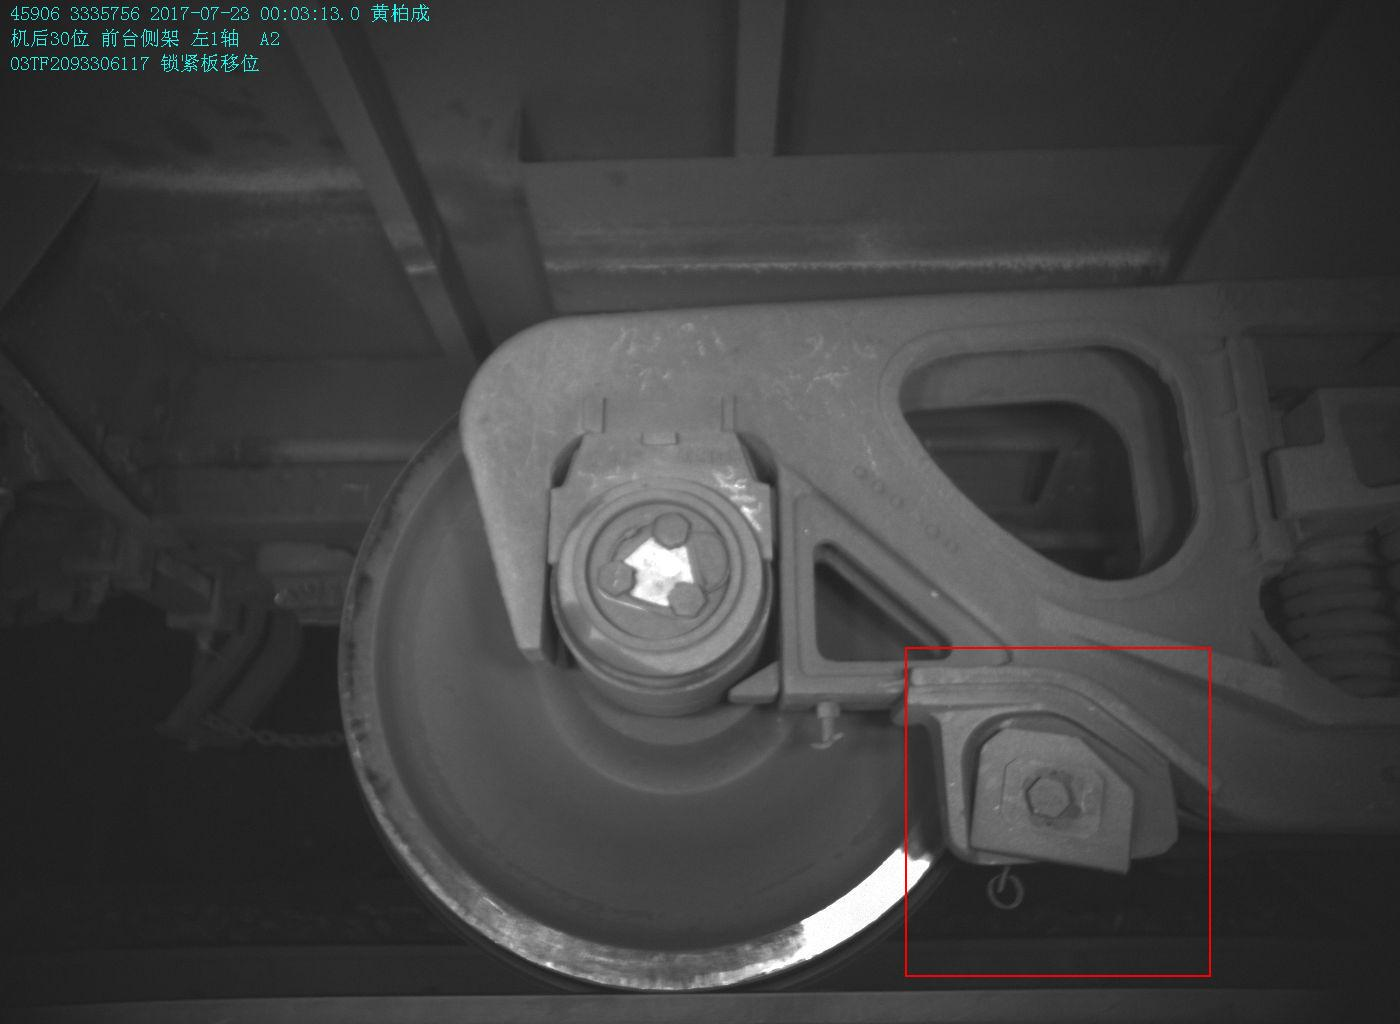Locking plate: (942, 685, 1178, 875)
